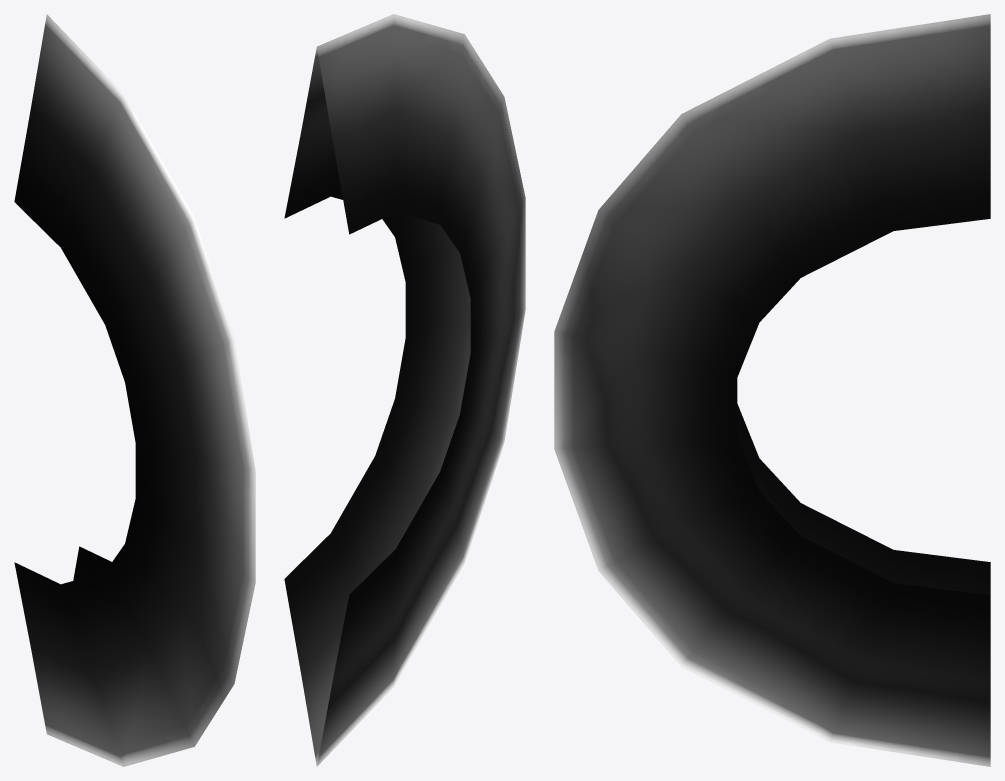
File: sris.FBX
3 renders of one model, left to right at view 1: azimuth 30°, elevation 25°; view 2: azimuth 150°, elevation 25°; view 3: azimuth 270°, elevation 25°, orthographic. The views are drawn at different scales.
Parts seen in each view (by area): view 1: Cylinder001; view 2: Cylinder001; view 3: Cylinder001.
Part boxes in pixels (x1,y1,x2,y2): Cylinder001: (14, 14, 255, 766); Cylinder001: (284, 14, 525, 766); Cylinder001: (554, 14, 990, 766).
Bounding box in the file's own units: 4.99 × 52.89 × 27.79.
